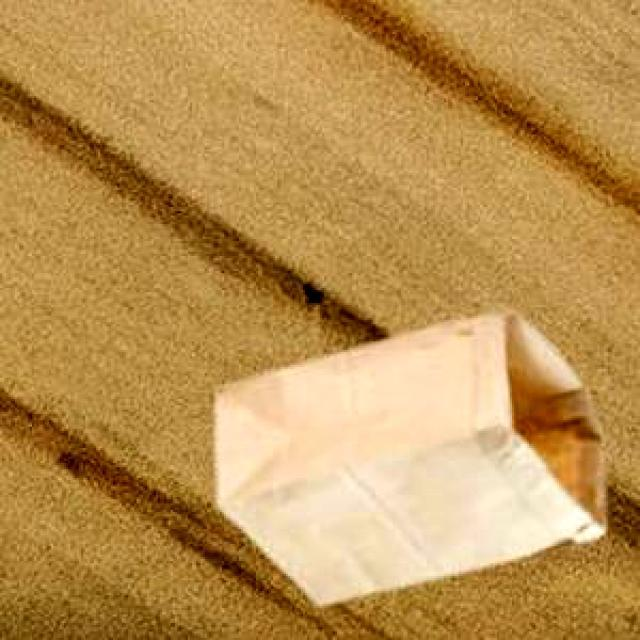Paper_Bag: (214, 308, 603, 603)
